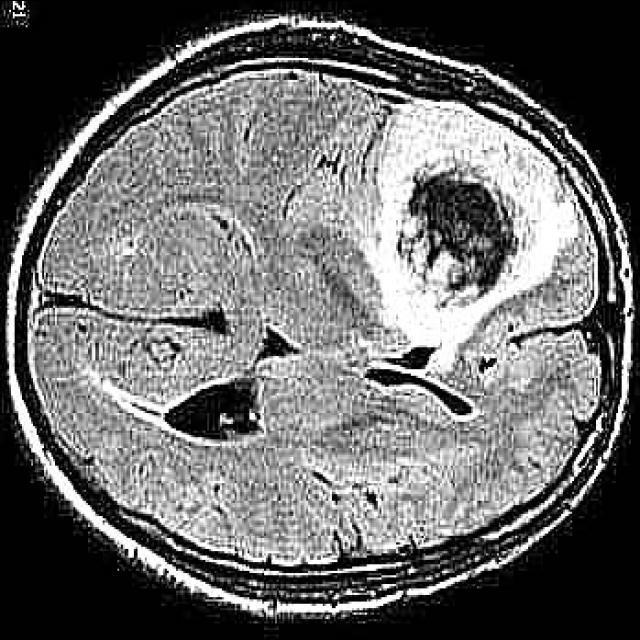tumor: (348, 101, 579, 342)
